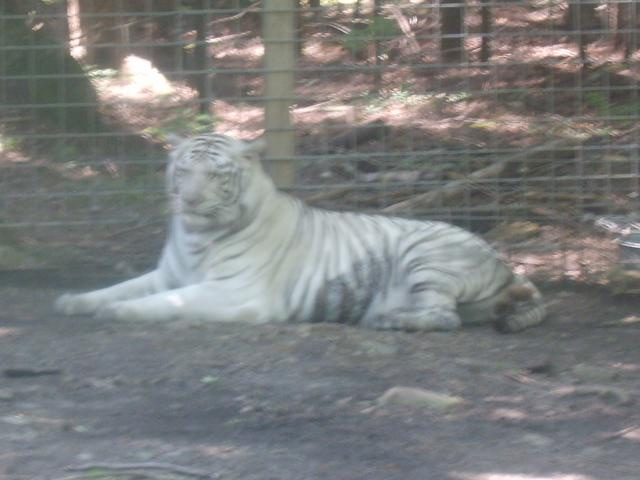tiger: (53, 92, 585, 366)
